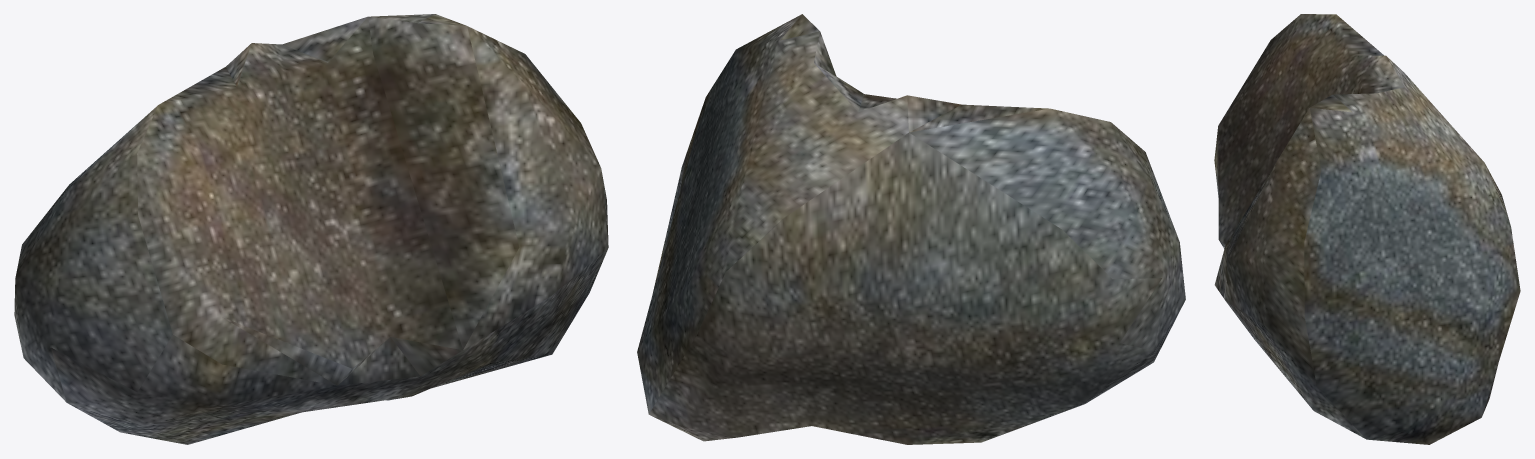
The picture shows the model from 3 angles, left to right: view 1: azimuth 30°, elevation 25°; view 2: azimuth 150°, elevation 25°; view 3: azimuth 270°, elevation 25°; orthographic projection. The views are drawn at different scales.
Parts seen in each view (by area): view 1: rock042_lod4; view 2: rock042_lod4; view 3: rock042_lod4.
Boxes of the visible parts, box(x1,y1,x2,y2) form: rock042_lod4: box(14, 14, 608, 444); rock042_lod4: box(637, 14, 1185, 444); rock042_lod4: box(1214, 14, 1520, 444).
Bounding box in the file's own units: 1 × 0.6858 × 0.6147.
Materials: 1 (1 with a texture image).
